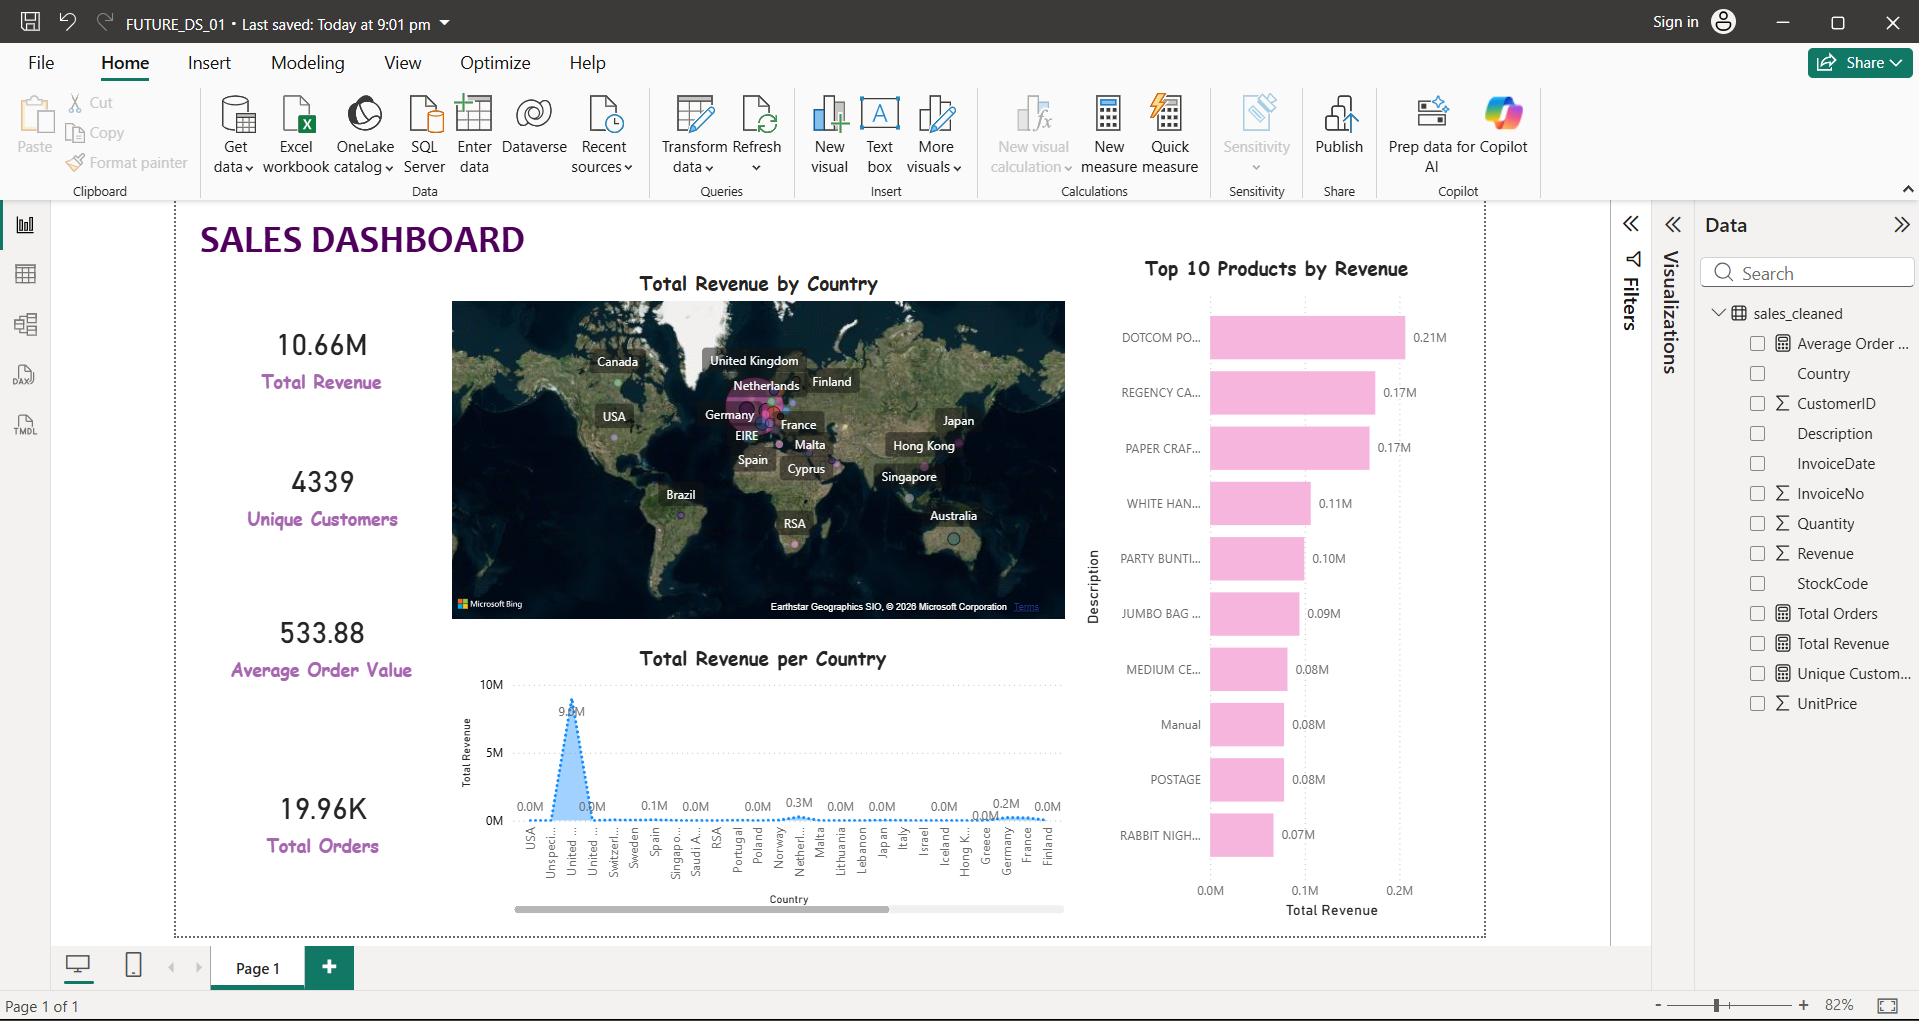

What the dashboard file says about the page in this screenshot:
{"tool":"powerbi","page":{"name":"Page 1","canvas":[1280,720],"ordinal":0},"visuals":[{"type":"card","fields":{"Values":["sales_cleaned.Total Revenue"]},"box":[2.4,94.2,280,116.2],"z":0},{"type":"card","fields":{"Values":["sales_cleaned.Unique Customers"]},"box":[3.7,233.6,280,105.2],"z":1},{"type":"card","fields":{"Values":["sales_cleaned.AOV"]},"box":[2.4,358.3,280,150.4],"z":2},{"type":"card","fields":{"Values":["sales_cleaned.Total Orders"]},"box":[3.7,519.7,280,172.4],"z":3},{"type":"lineChart","title":"Total Revenue per Country","fields":{"Category":["sales_cleaned.Country"],"Y":["sales_cleaned.Total Revenue"]},"box":[273.9,434.1,600.4,269],"z":4},{"type":"barChart","title":"Top 10 Products by Revenue","fields":{"Category":["sales_cleaned.Description"],"Y":["sales_cleaned.Total Revenue"]},"box":[884.1,52.6,385.2,655.4],"z":5},{"type":"map","fields":{"Category":["sales_cleaned.Country"],"Size":["sales_cleaned.Total Revenue"]},"box":[265.4,67.3,609,347.3],"z":6},{"type":"textbox","box":[18.3,11,338.7,56.3],"z":7}]}

Visuals, with their boxes on the page's 1280x720 design canvas (x1, y1, x2, y2). These are canvas units, not pixel positions in the 1919x1021 screenshot, which may show the page scaled, cropped or inside an application window:
card - sales_cleaned.Total Revenue: region(2, 94, 282, 210)
card - sales_cleaned.Unique Customers: region(4, 234, 284, 339)
card - sales_cleaned.AOV: region(2, 358, 282, 509)
card - sales_cleaned.Total Orders: region(4, 520, 284, 692)
"Total Revenue per Country" lineChart: region(274, 434, 874, 703)
"Top 10 Products by Revenue" barChart: region(884, 53, 1269, 708)
map - sales_cleaned.Country x sales_cleaned.Total Revenue: region(265, 67, 874, 415)
textbox: region(18, 11, 357, 67)
